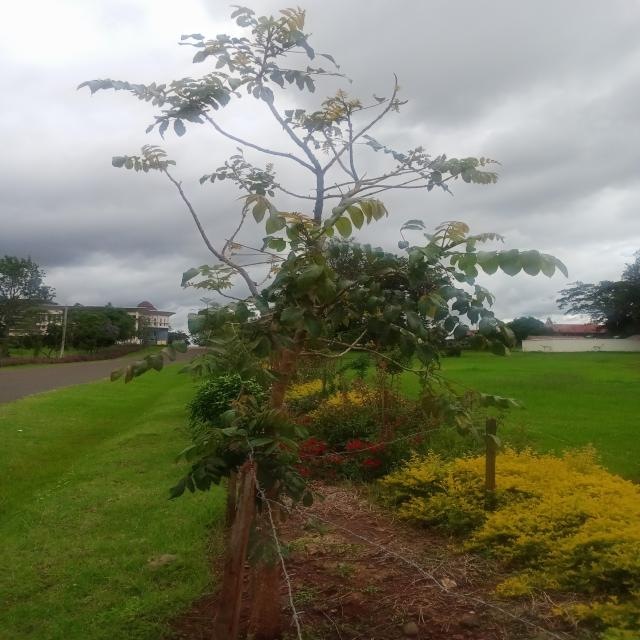Polyscias Kikuyensis: (15, 0, 585, 535)
